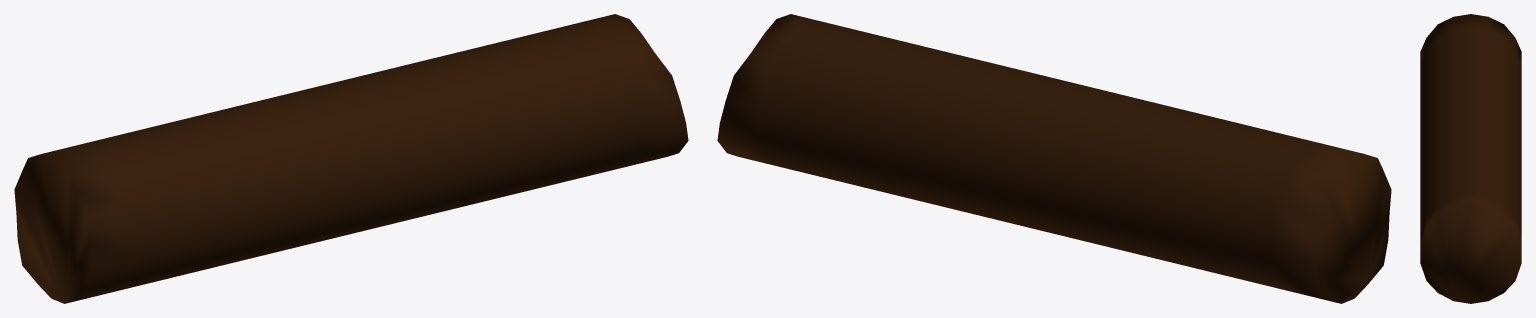
The model's file is rolling stick.obj.
3 renders of one model, left to right at view 1: azimuth 30°, elevation 25°; view 2: azimuth 150°, elevation 25°; view 3: azimuth 270°, elevation 25°, orthographic. The views are drawn at different scales.
Parts seen in each view (by area): view 1: Rolling_Stick; view 2: Rolling_Stick; view 3: Rolling_Stick.
Part boxes in pixels (box(x1,y1,x2,y2)): Rolling_Stick: box(14, 14, 688, 303); Rolling_Stick: box(717, 14, 1391, 303); Rolling_Stick: box(1420, 14, 1521, 303).
Bounding box in the file's own units: 68.78 × 14.95 × 14.72.
